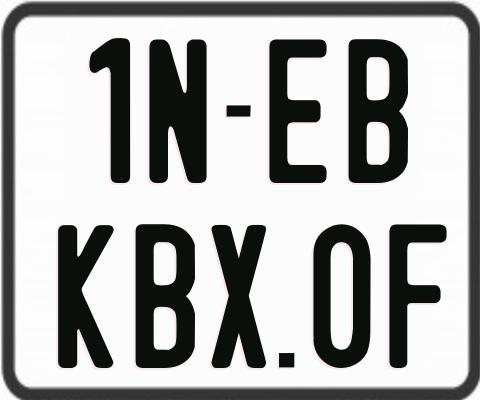0: (311, 222, 369, 370)
1: (89, 37, 131, 182)
B: (136, 221, 199, 366), (348, 38, 408, 188)
E: (269, 37, 330, 181)
F: (386, 224, 449, 372)
K: (57, 225, 114, 369)
N: (148, 40, 210, 184)
X: (211, 224, 266, 367)
